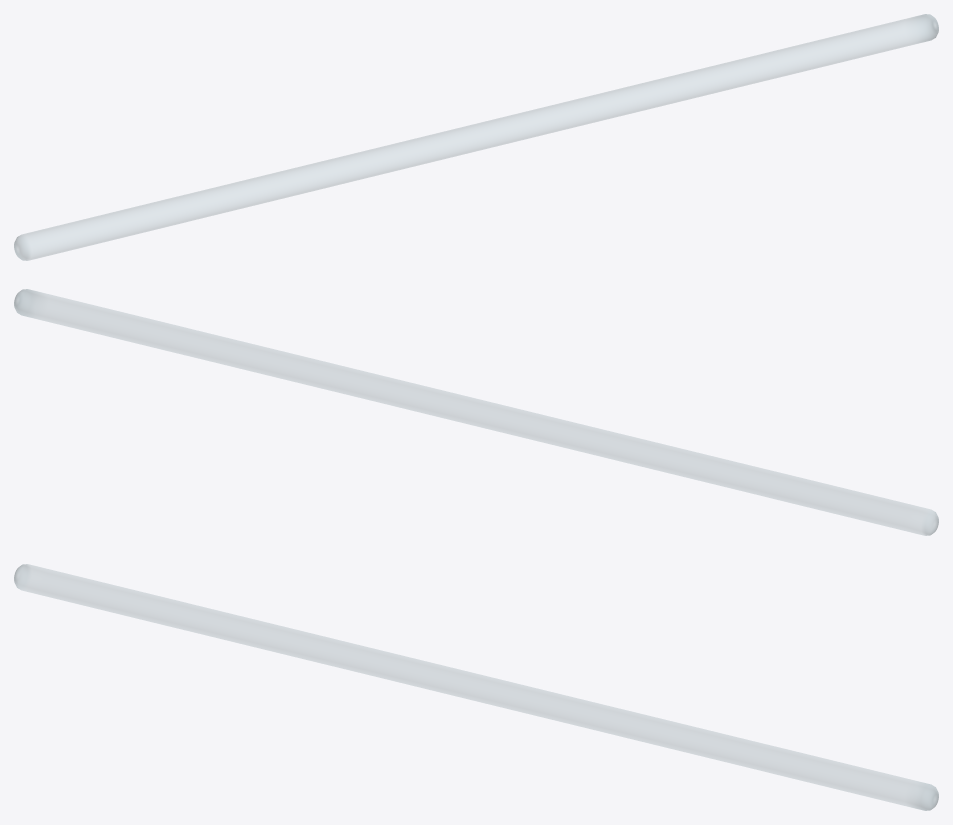
File: glass-rod.glb
3 views of the same model, one above another, from view 1: azimuth 30°, elevation 25°; view 2: azimuth 150°, elevation 25°; view 3: azimuth 330°, elevation 25° (orthographic).
Parts seen in each view (by area): view 1: glass-rod-glass; view 2: glass-rod-glass; view 3: glass-rod-glass.
Part boxes in pixels (box(x1,y1,x2,y2)): glass-rod-glass: box(14, 14, 938, 260); glass-rod-glass: box(14, 289, 938, 535); glass-rod-glass: box(14, 564, 938, 810).
Size of what is drawn, in the model's own units: 25 by 0.6406 by 0.6406.
